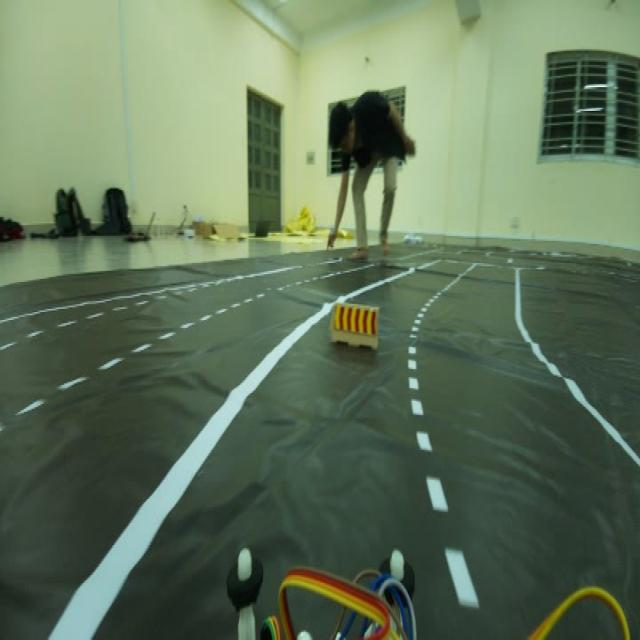roadblock: (324, 291, 382, 359)
